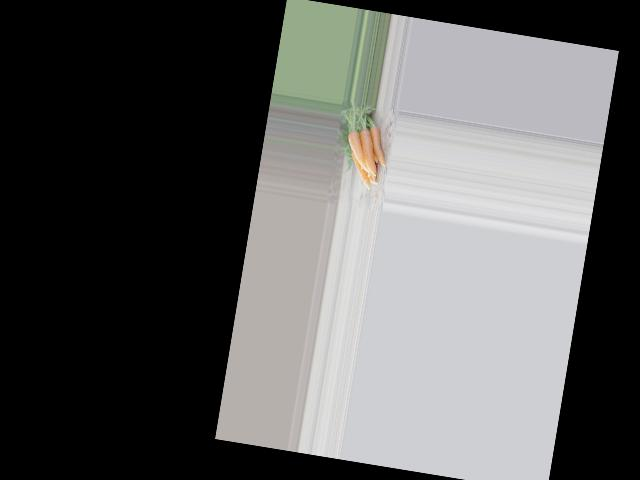carrot: (363, 124, 391, 171)
